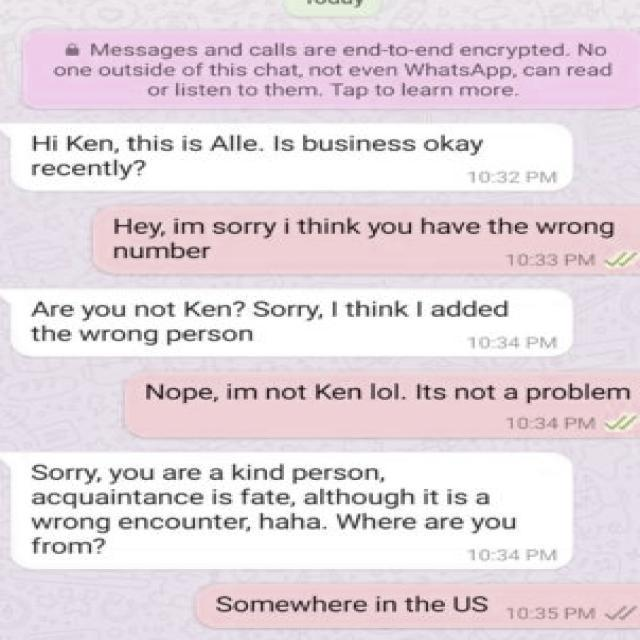scam: (14, 452, 558, 564), (19, 290, 554, 355), (11, 122, 535, 188)
